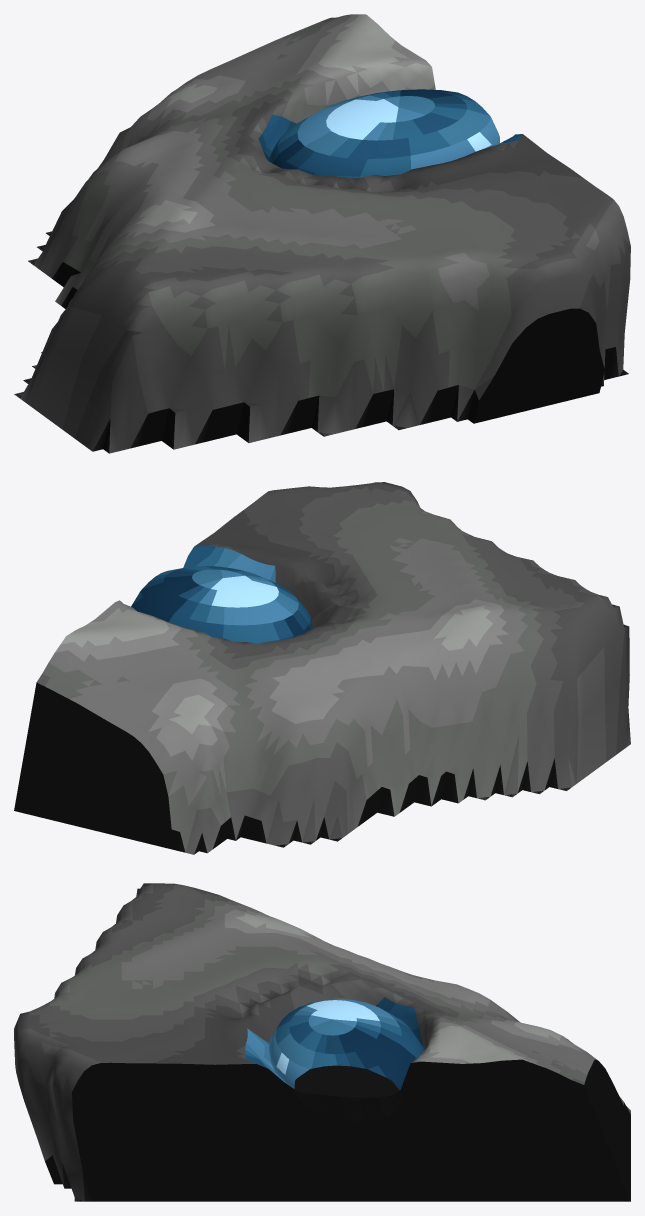
The model's file is spike_hand_r_bl.glb.
The picture shows the model from 3 angles, top to bottom: view 1: azimuth 30°, elevation 25°; view 2: azimuth 150°, elevation 25°; view 3: azimuth 270°, elevation 25°; orthographic projection. The views are drawn at different scales.
Parts seen in each view (by area): view 1: spike_hand_r_bl; view 2: spike_hand_r_bl; view 3: spike_hand_r_bl.
Boxes of the visible parts, bbox=[...] form: spike_hand_r_bl: bbox=[14, 14, 630, 453]; spike_hand_r_bl: bbox=[14, 482, 630, 854]; spike_hand_r_bl: bbox=[14, 883, 630, 1201].
Size of the model in its own units: 23 by 8 by 29.95.
